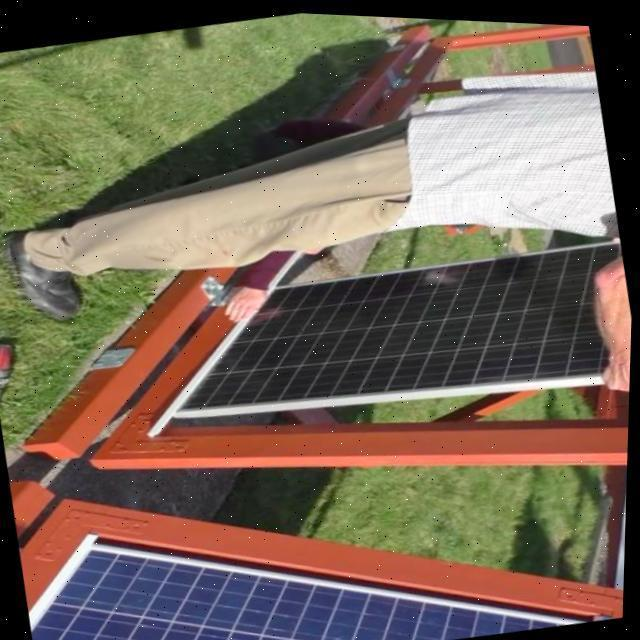Normal Solar Panel: (159, 214, 635, 444), (21, 452, 596, 640)
